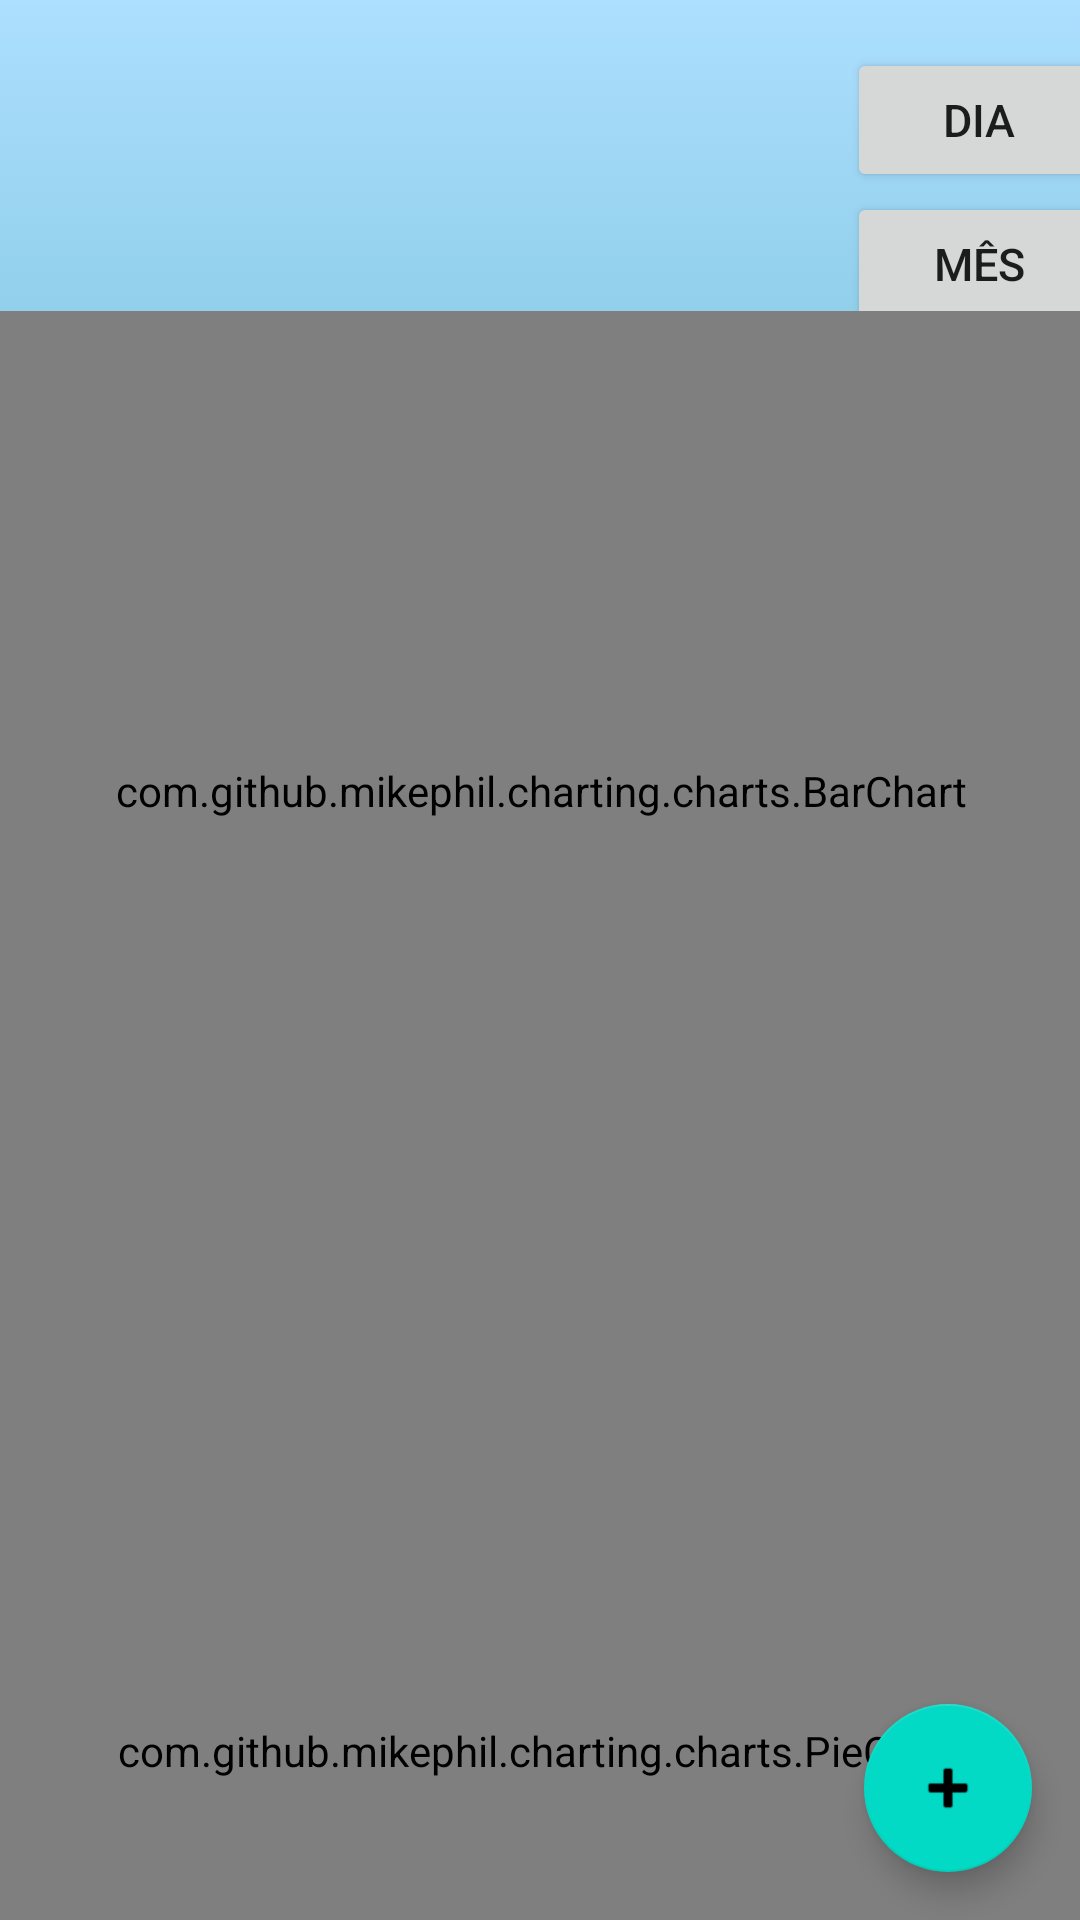

Named icons in this screenshot (1080×1920) and their centers, (x=x, y=y):
Criar nova transação: (x=948, y=1788)
